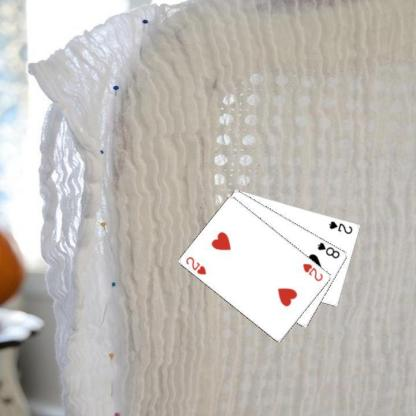2H: (184, 254, 208, 276), (301, 260, 324, 282)
2S: (326, 218, 354, 235)
8S: (315, 240, 341, 260)
